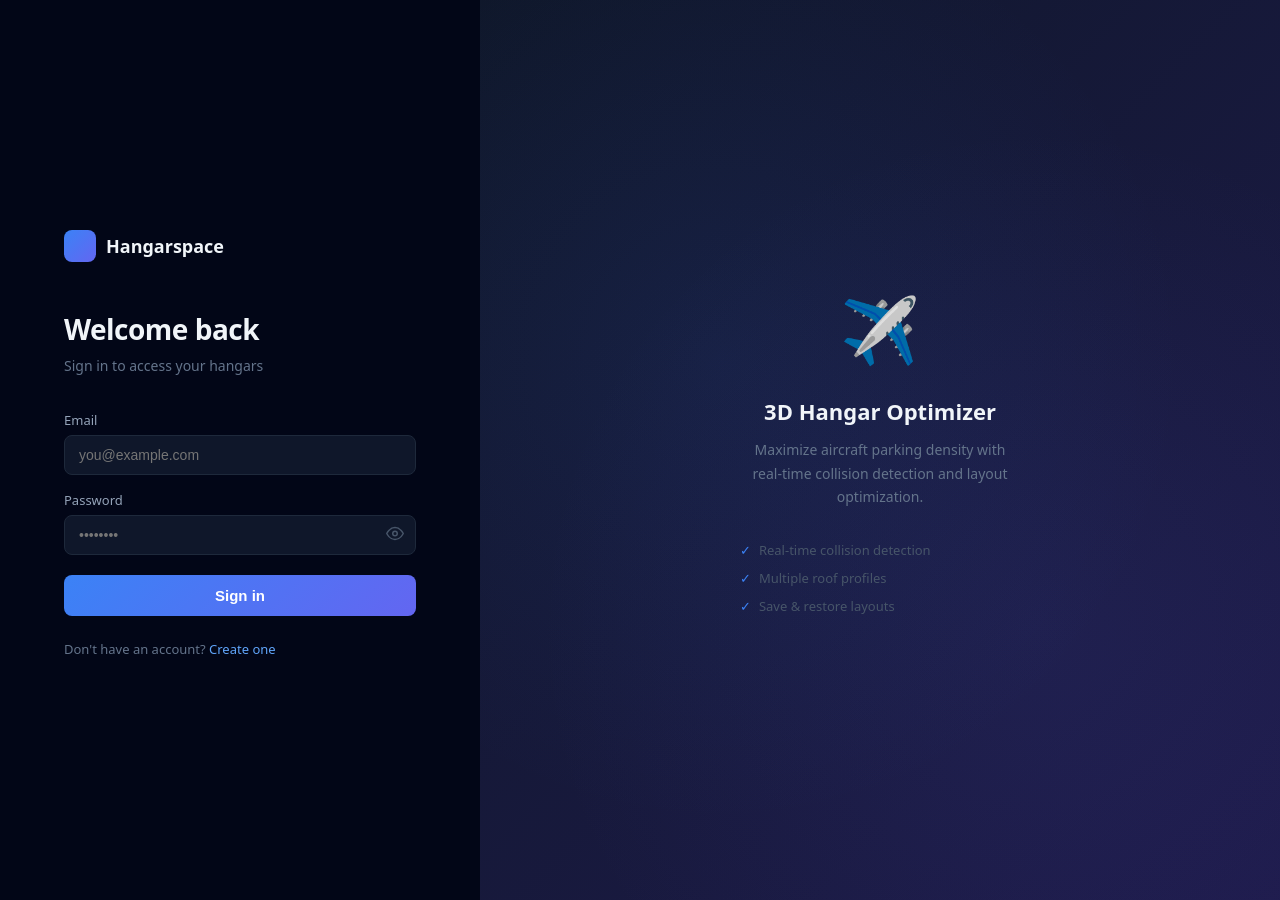
Scenario: Login page › switches to register mode
Click the text "Create one": (242, 648) [209, 640, 276, 658]
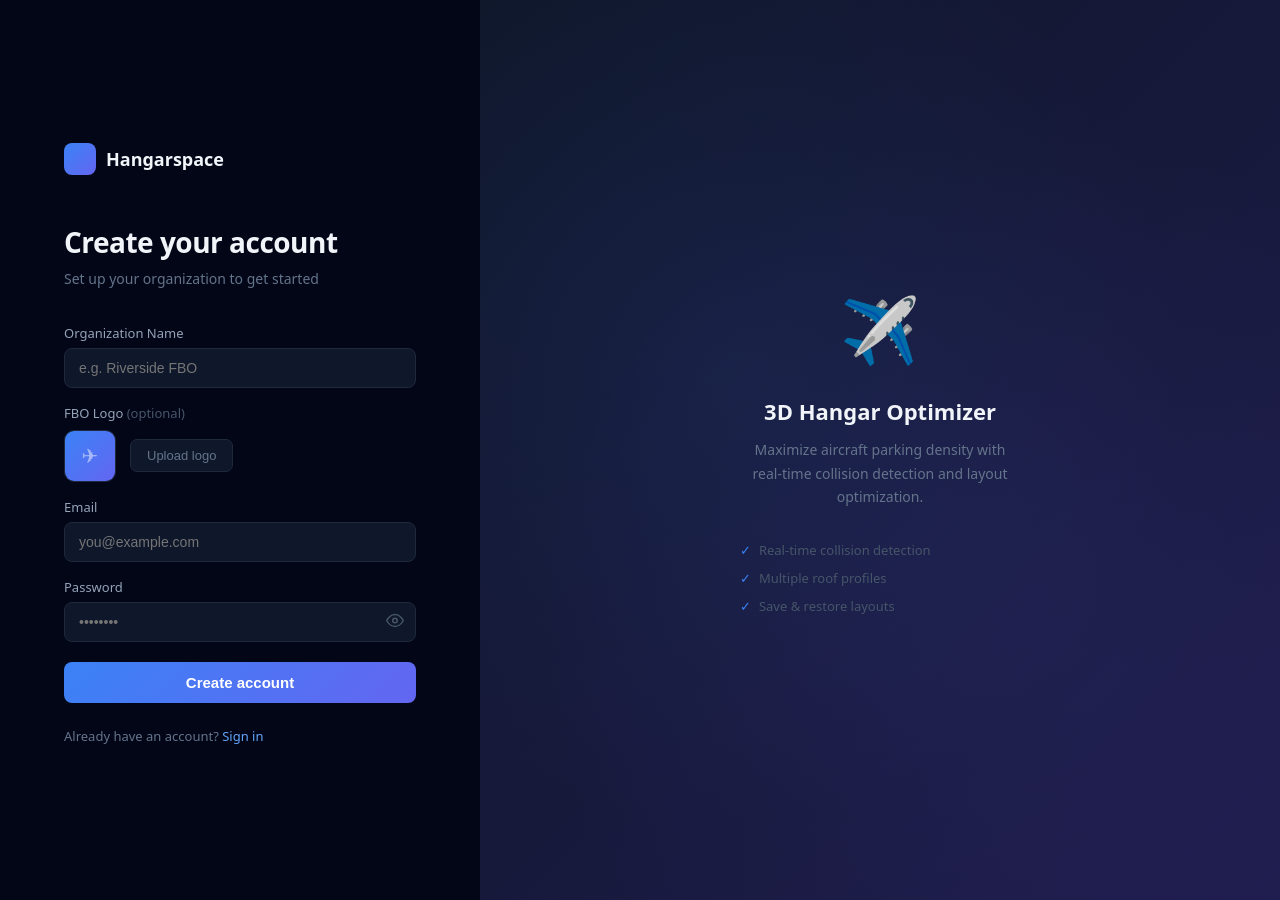
Check: the heading "Create your account" is shown, box [64, 222, 338, 260]
Check: the field with placeholder "e.g. Riverside FBO" is shown, box [64, 348, 416, 388]
